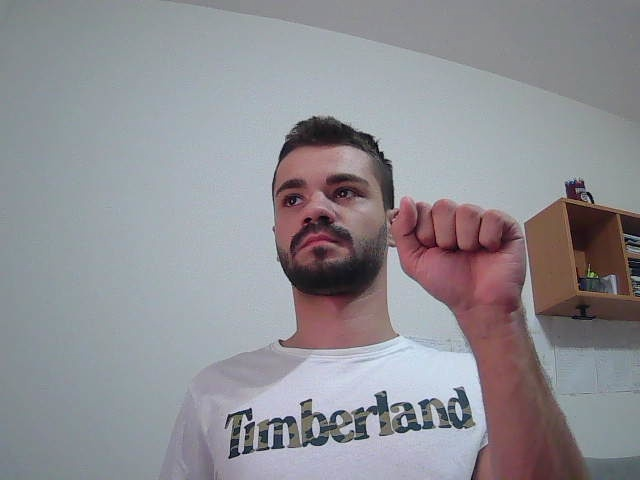a: (391, 197, 543, 447)
